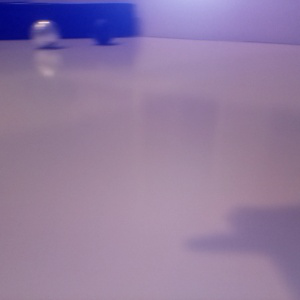alive_ball: (31, 20, 59, 48)
dead_ball: (92, 19, 114, 44)
